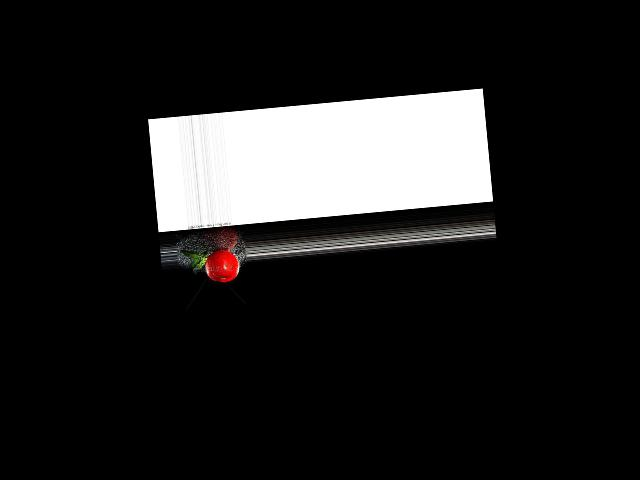tomato: (203, 249, 240, 284)
